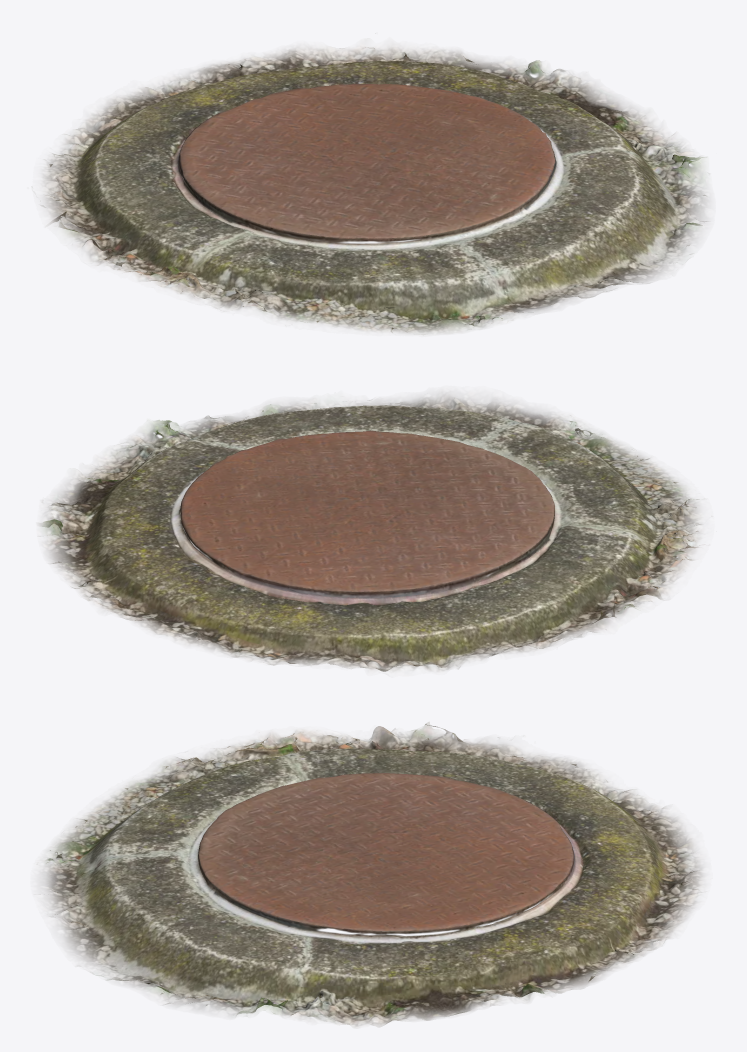
Rendered from manhole_3d_scan_retopo.glb.
The picture shows the model from 3 angles, top to bottom: view 1: azimuth 30°, elevation 25°; view 2: azimuth 150°, elevation 25°; view 3: azimuth 270°, elevation 25°; orthographic projection.
Visible parts, largest first — view 1: Object_2; view 2: Object_2; view 3: Object_2.
Part boxes in pixels (bbox=[...]): Object_2: bbox=[41, 46, 708, 334]; Object_2: bbox=[38, 394, 702, 671]; Object_2: bbox=[38, 722, 702, 1026].
Bounding box in the file's own units: 1.19 × 0.0908 × 1.2.
1 material, 1 textured.
